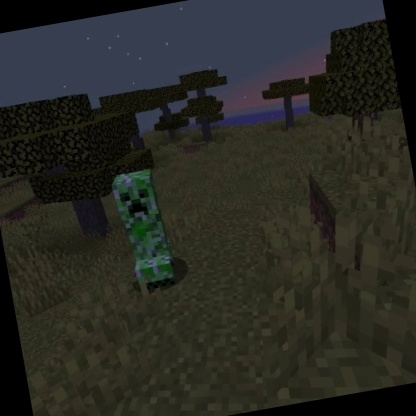creeper: (106, 162, 184, 300)
